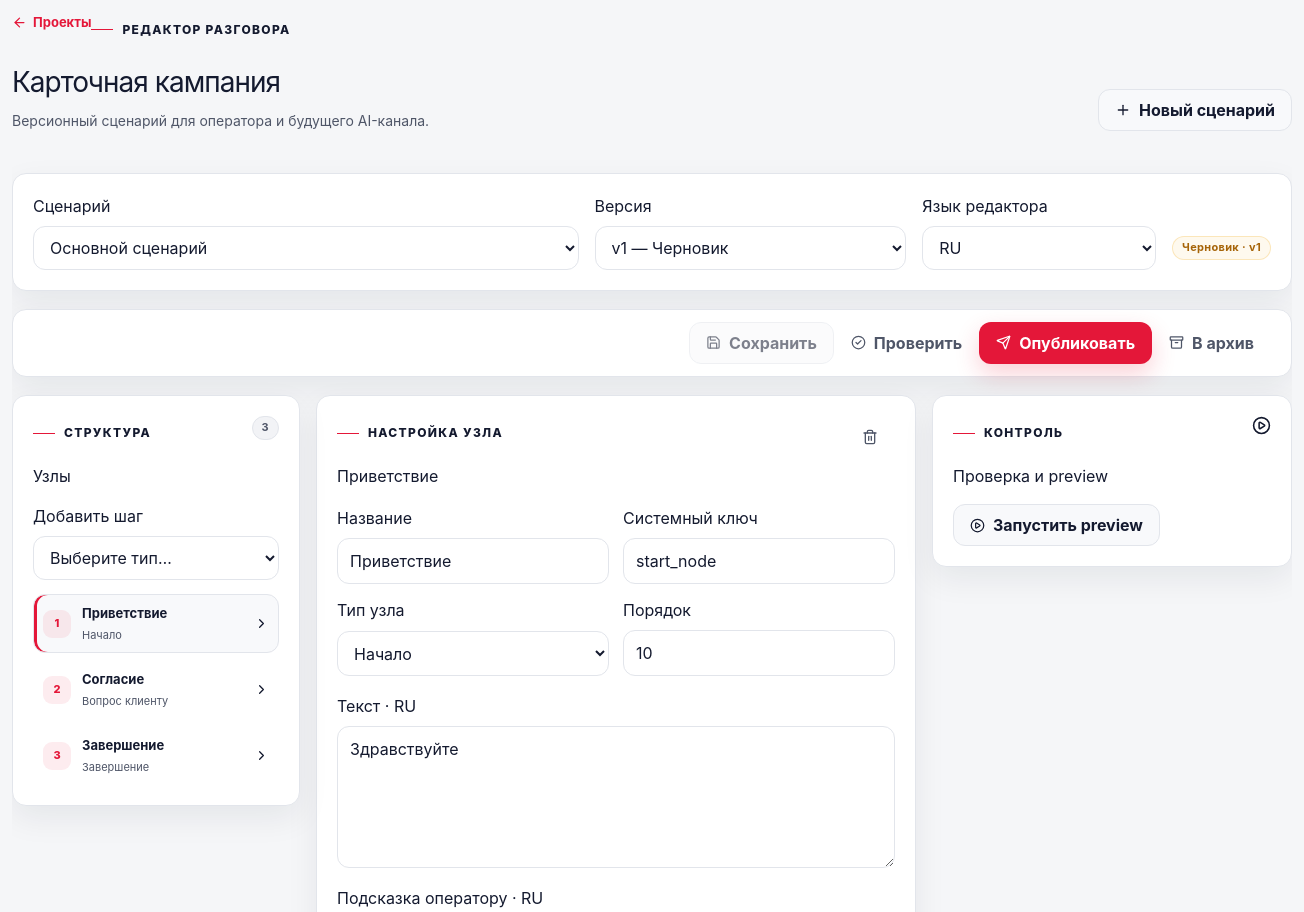
Scenario: call flow editor › switches language without losing the selected version
This screenshot has width=1304, height=912.
Check: the text box labelled "Текст · RU" holds "Здравствуйте", box [337,726,895,868]
Select "UZ" in the dropdown labelled "Язык редактора" at (1039, 248), box [922,226,1156,270]
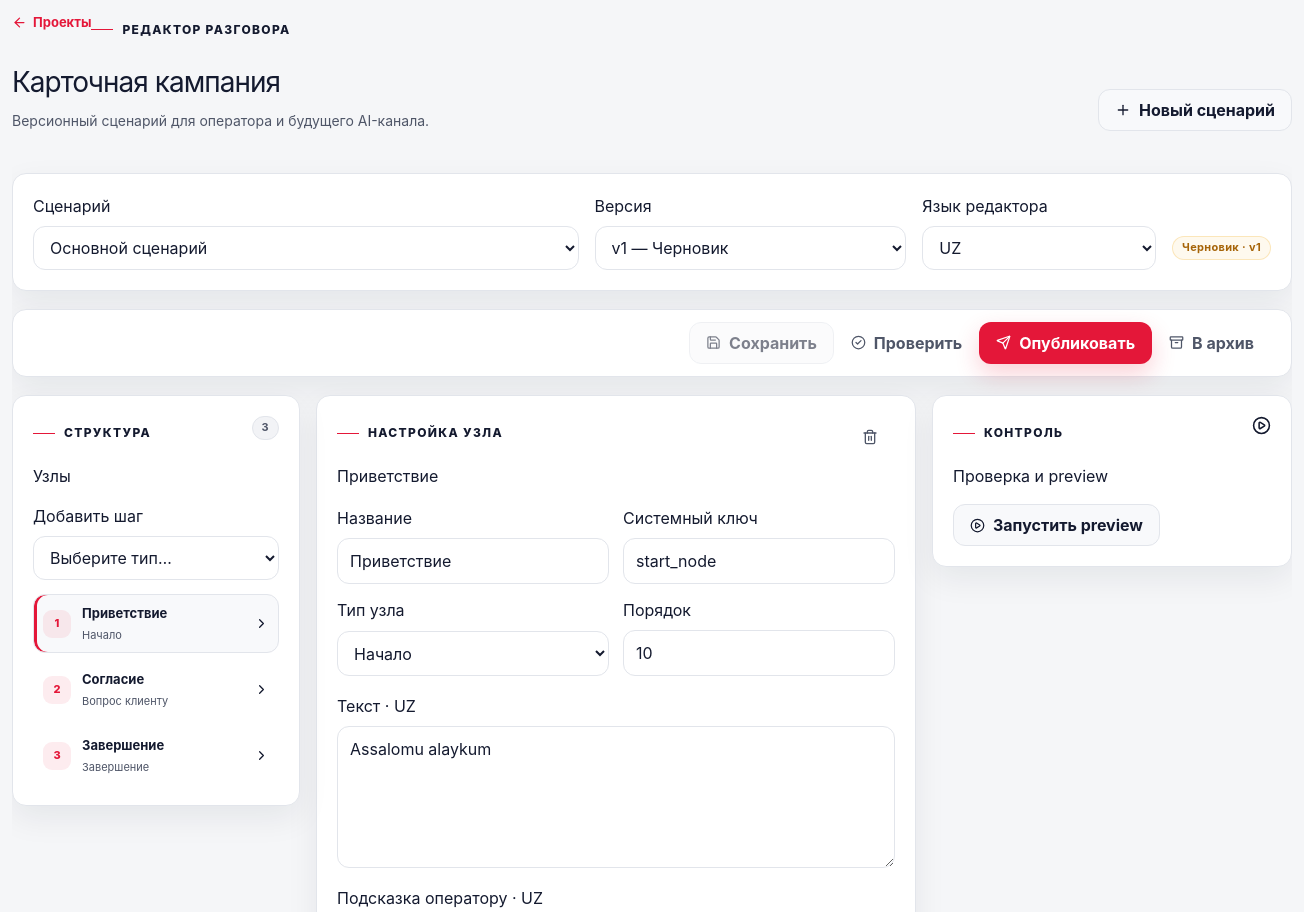
Check: the text box labelled "Текст · UZ" holds "Assalomu alaykum", box [337,726,895,868]
